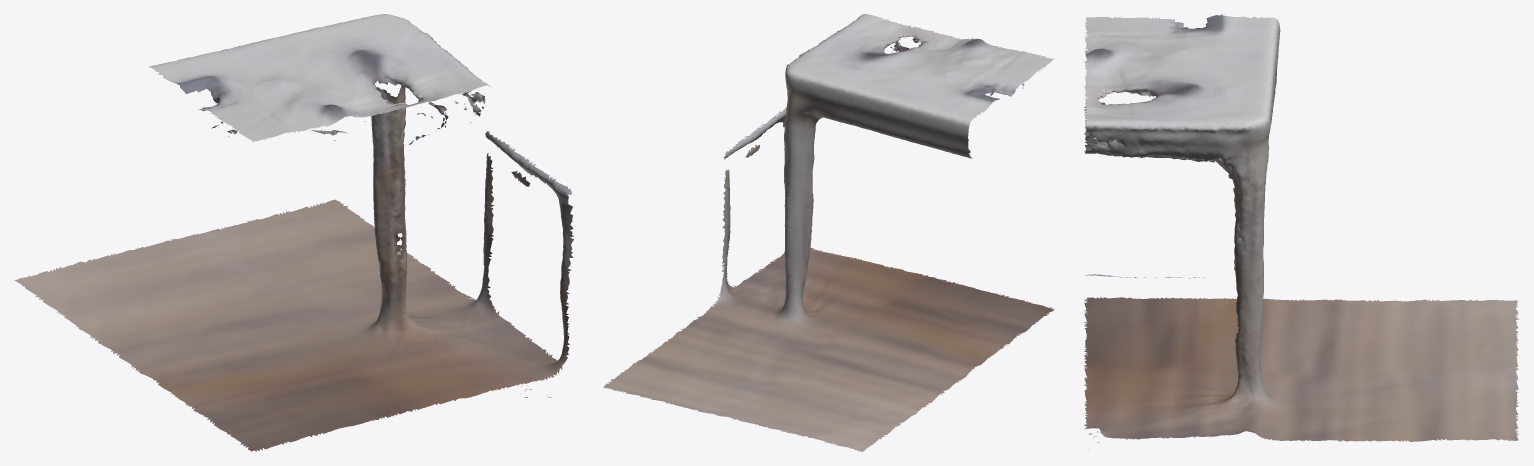
The model's file is apartment-full-105-81d20a61b7c2.glb.
3 views of the same model, side by side, from view 1: azimuth 30°, elevation 25°; view 2: azimuth 150°, elevation 25°; view 3: azimuth 270°, elevation 25° (orthographic). The views are drawn at different scales.
Bounding box in the file's own units: 0.856 × 0.877 × 1.1.
